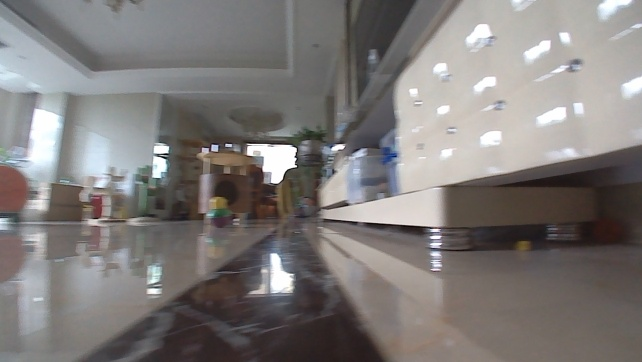TV_stand: (312, 0, 641, 254)
